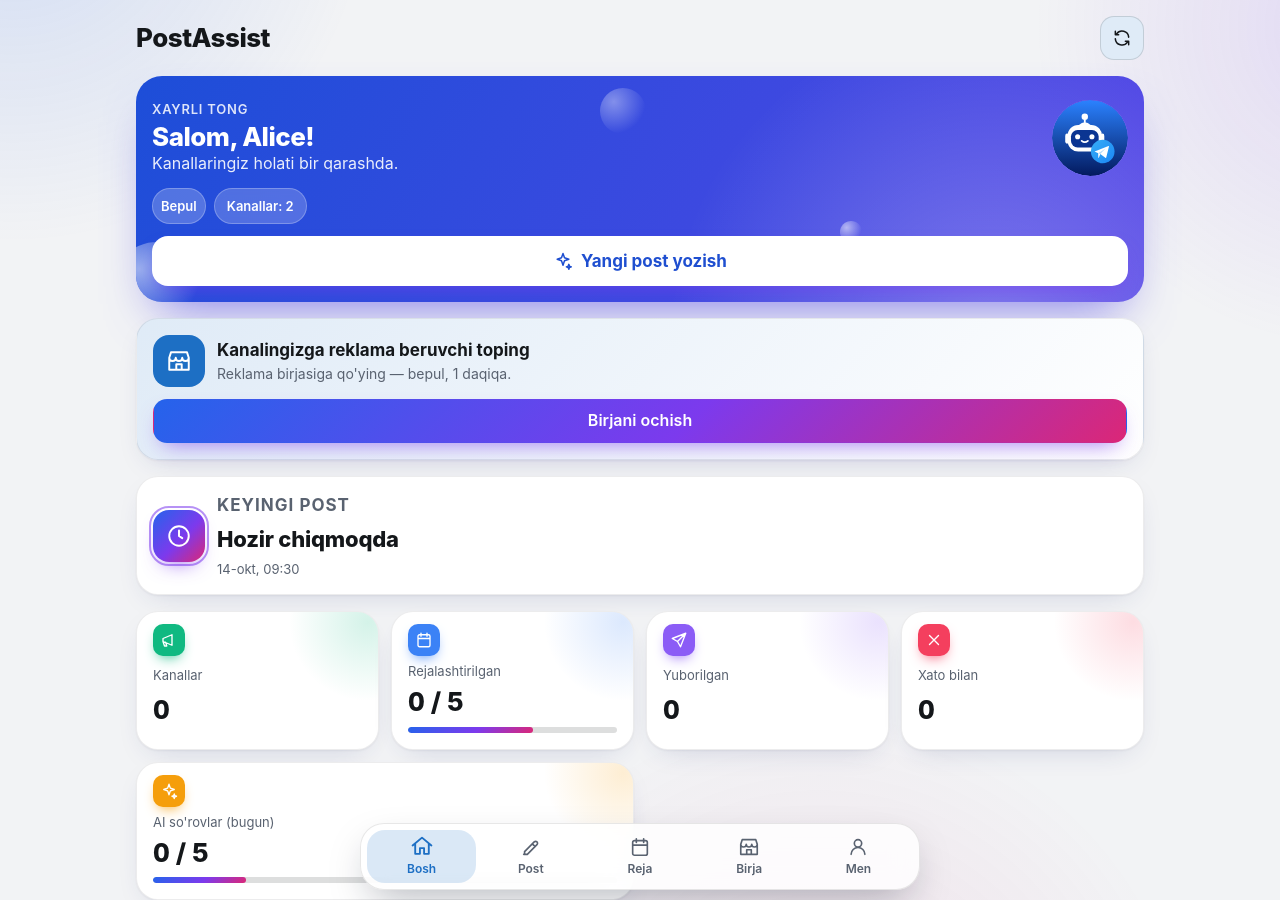
Aqlli rejalash › misol chiplari matnni to'ldiradi
Check: the heading "Salom, Alice!" is shown, box [152,121,314,152]
Click the button "Post" at (531,856), box [476,830,585,883]
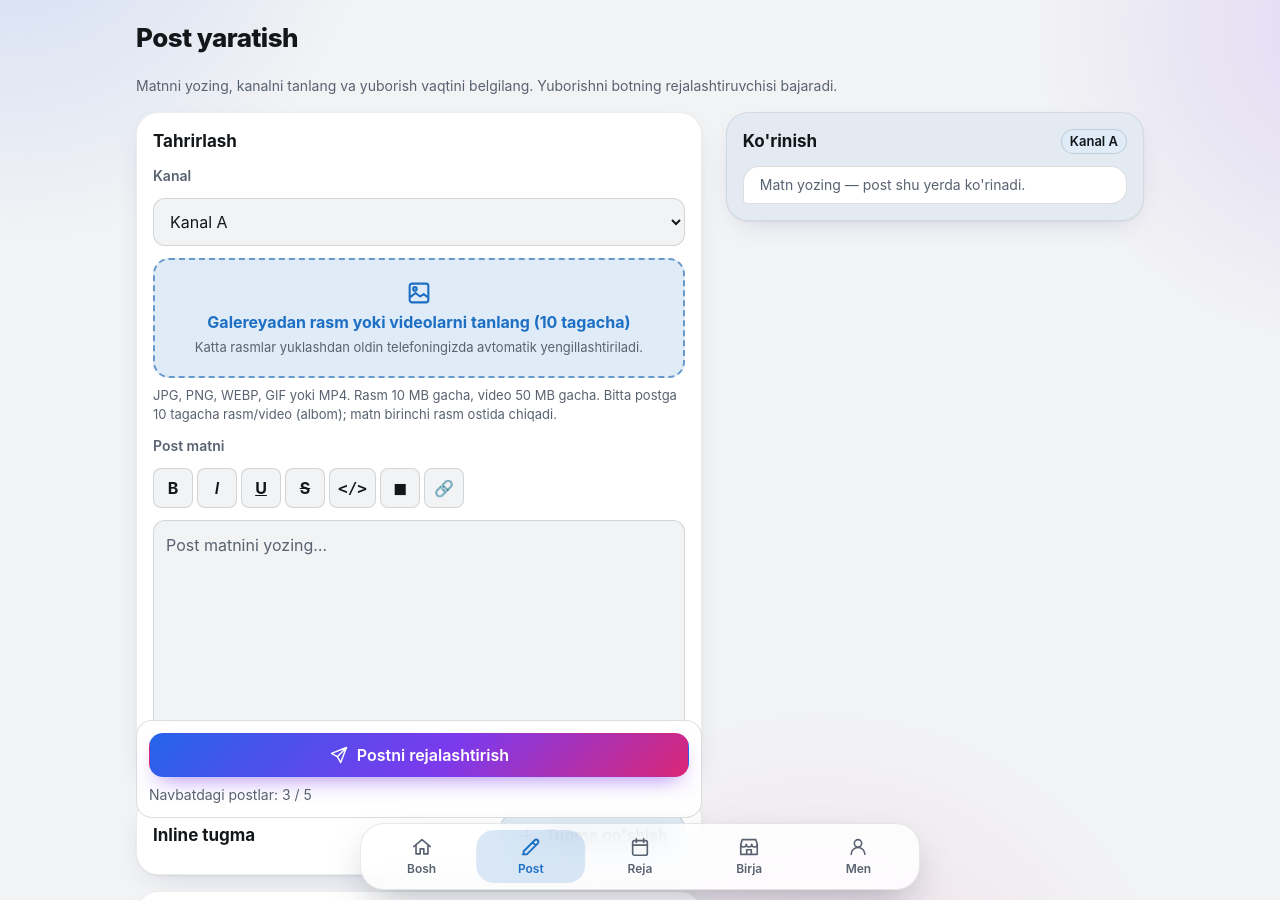
Select "Kanal A" in the dropdown labelled "Kanal" at (419,222), box [153,198,685,246]
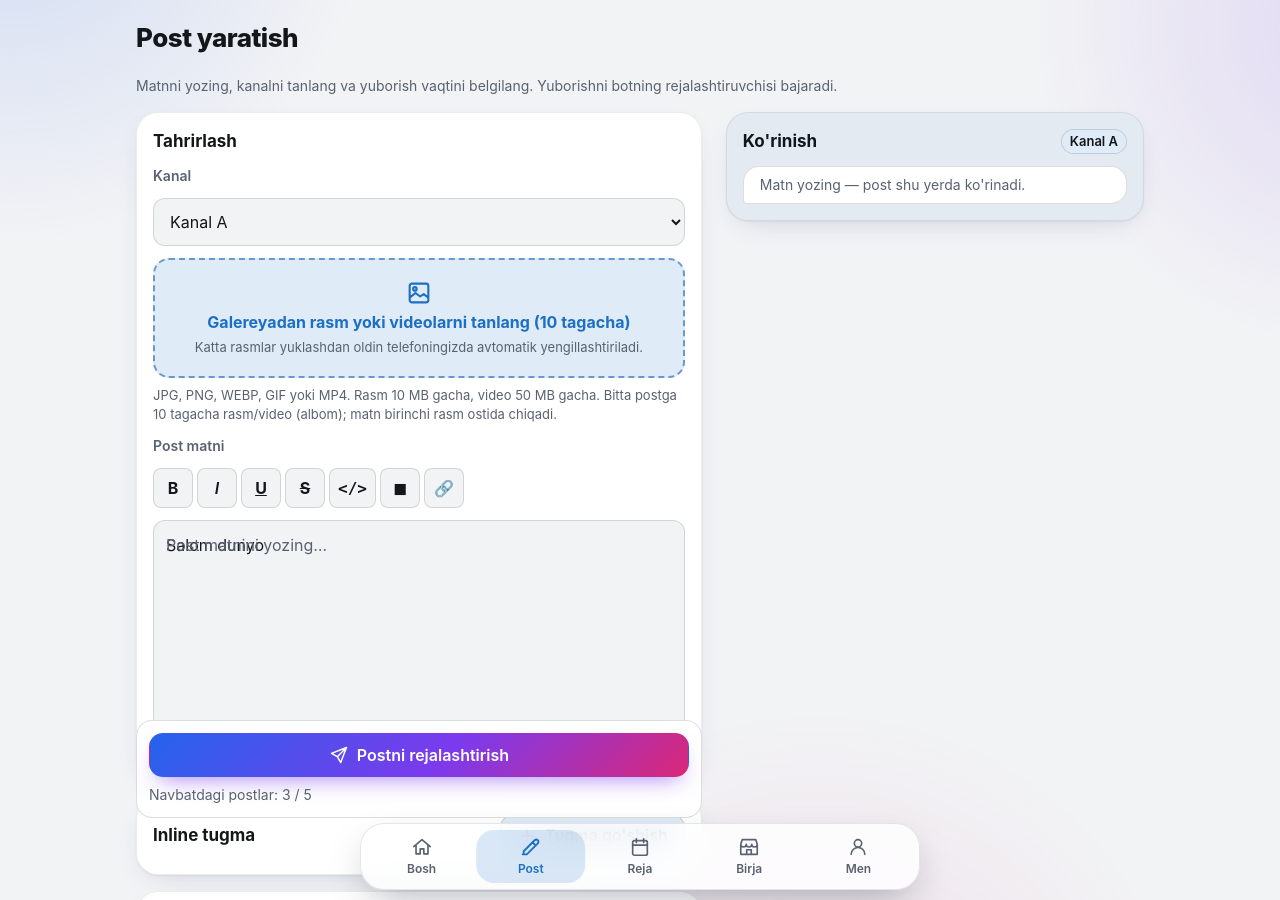
Clear the field named "Post matni" at (419,626), box [153,520,685,731]
(page scrolled)
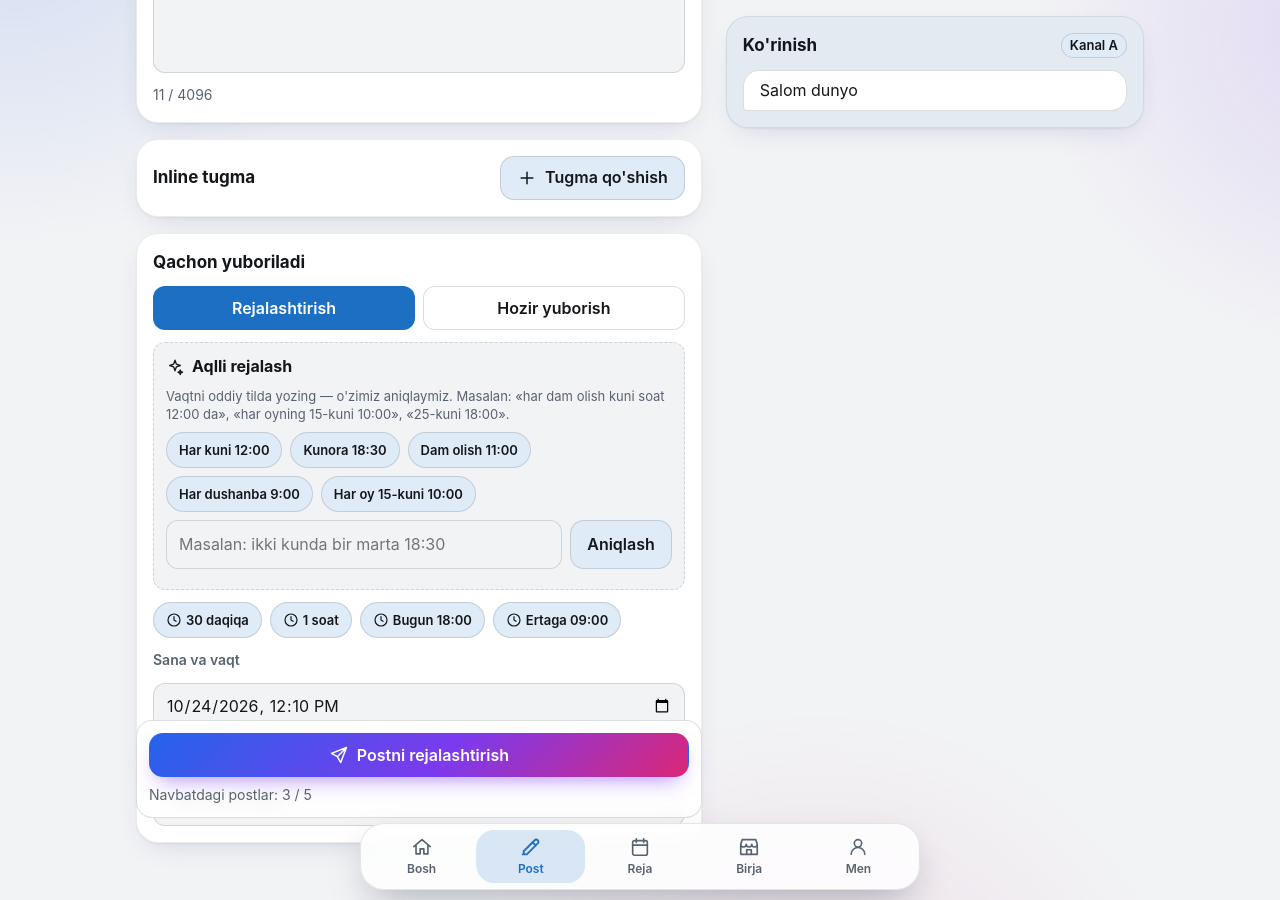
Click the button "Kunora 18:30" at (345,450), box [290,432,400,468]
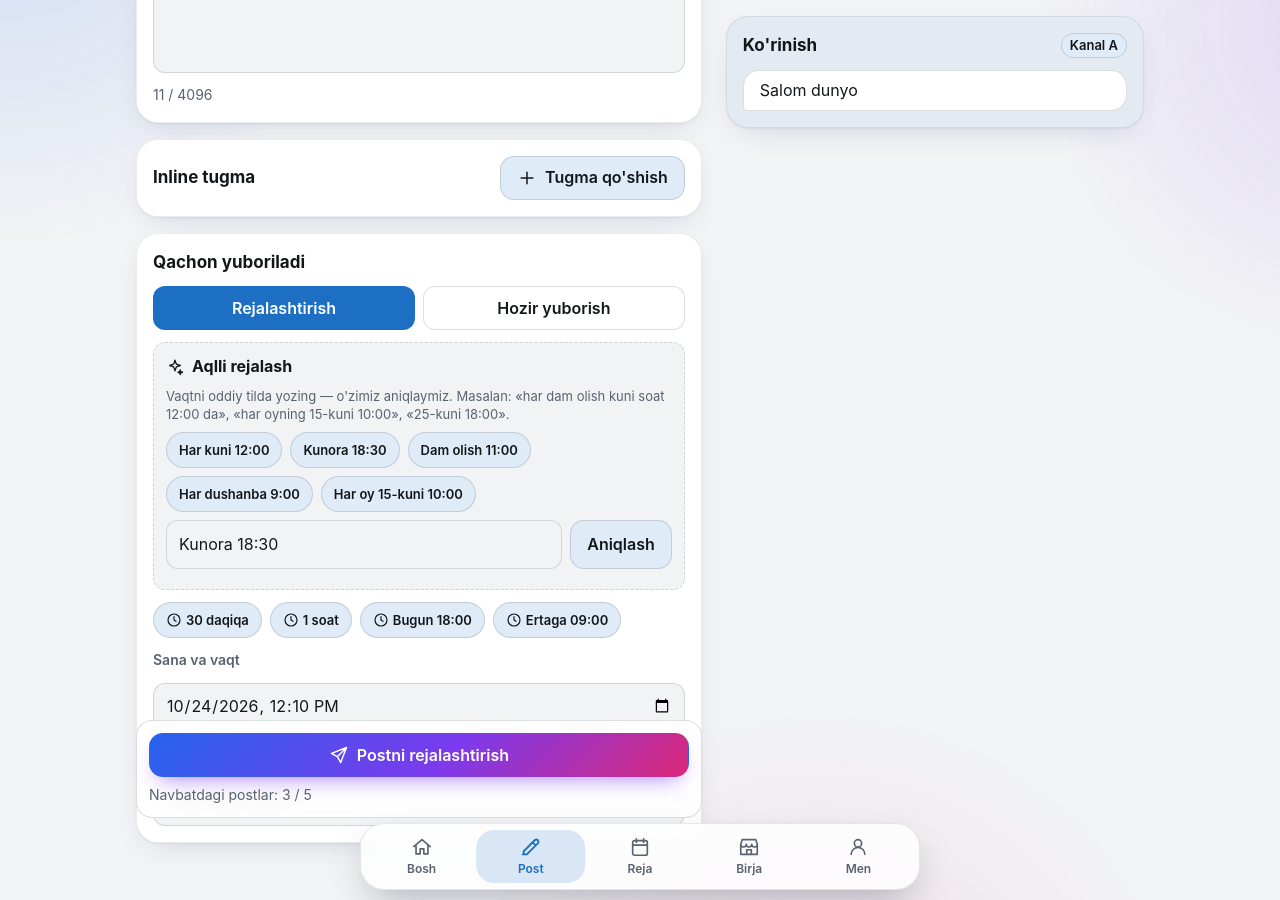
Check: the field named "Aqlli rejalash" holds "Kunora 18:30", box [166,520,562,569]
